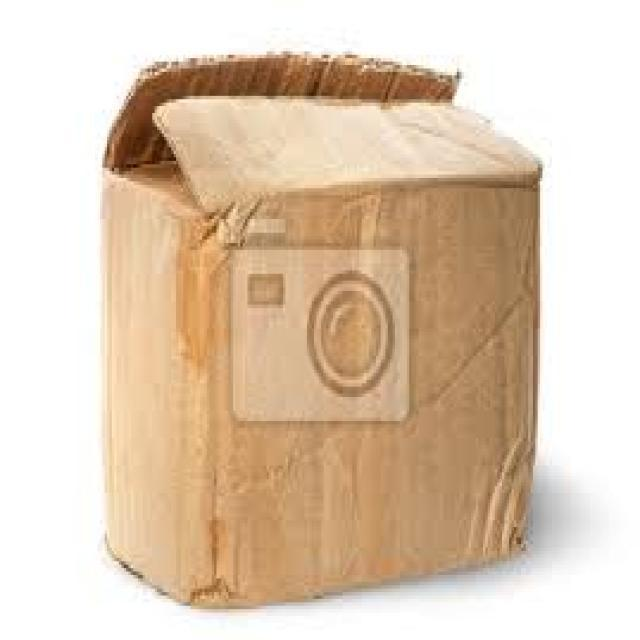Cardboard: (102, 48, 544, 618)
